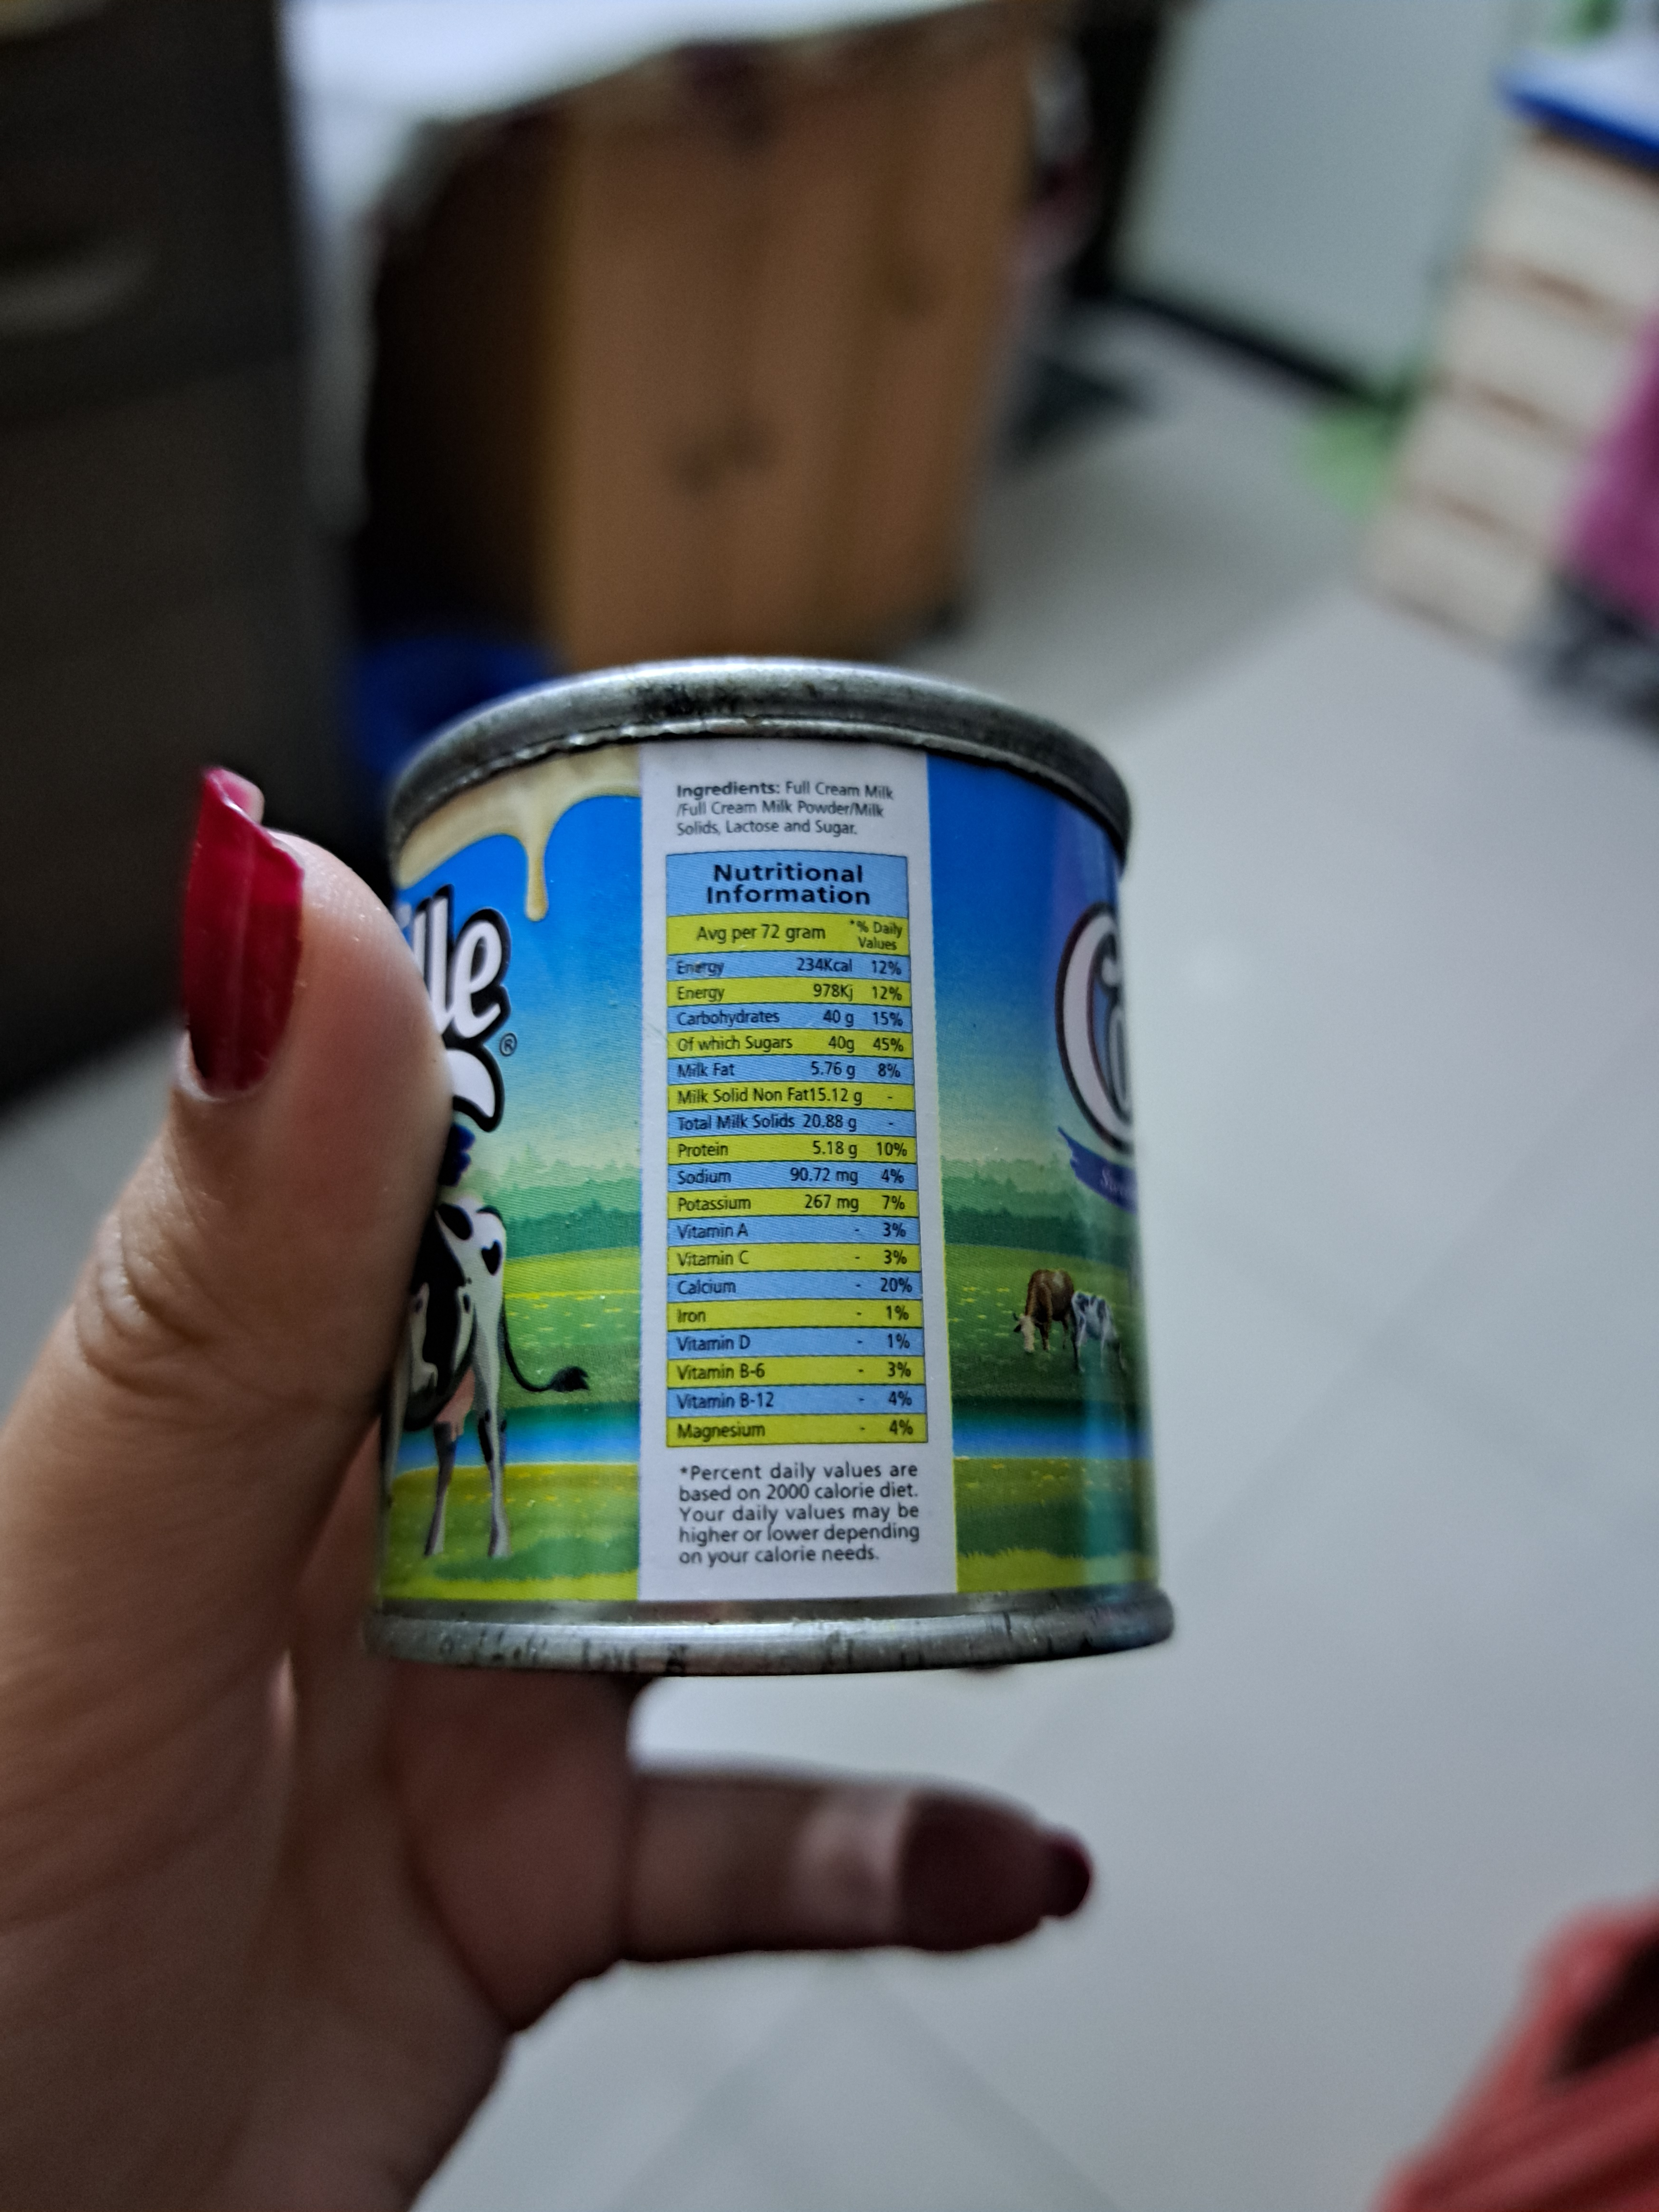table: (655, 843, 932, 1453)
